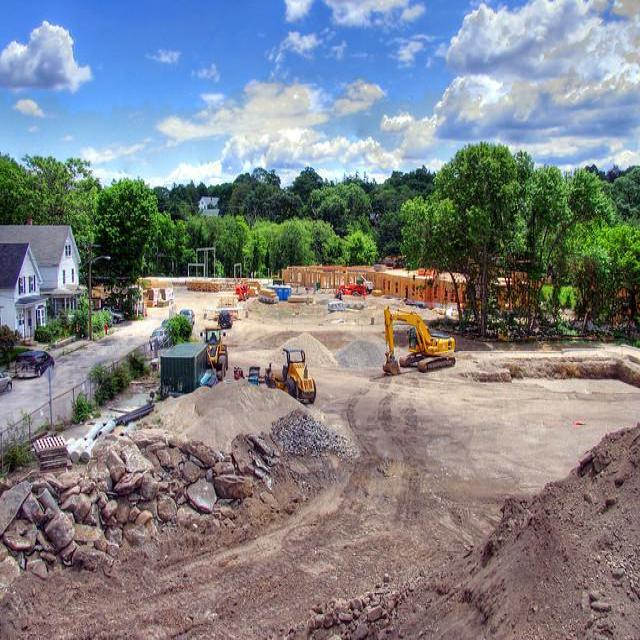Boca de incendio: (144, 302, 148, 316), (105, 324, 108, 336)
Excavadora: (382, 304, 454, 377)
SUV: (148, 326, 168, 347)
camion: (92, 307, 125, 323)
mini-van: (15, 350, 55, 380)
pala cargadora: (260, 346, 316, 406), (200, 326, 228, 380)
sedan: (178, 308, 195, 326), (1, 369, 12, 394), (218, 311, 232, 329), (161, 317, 172, 328)
